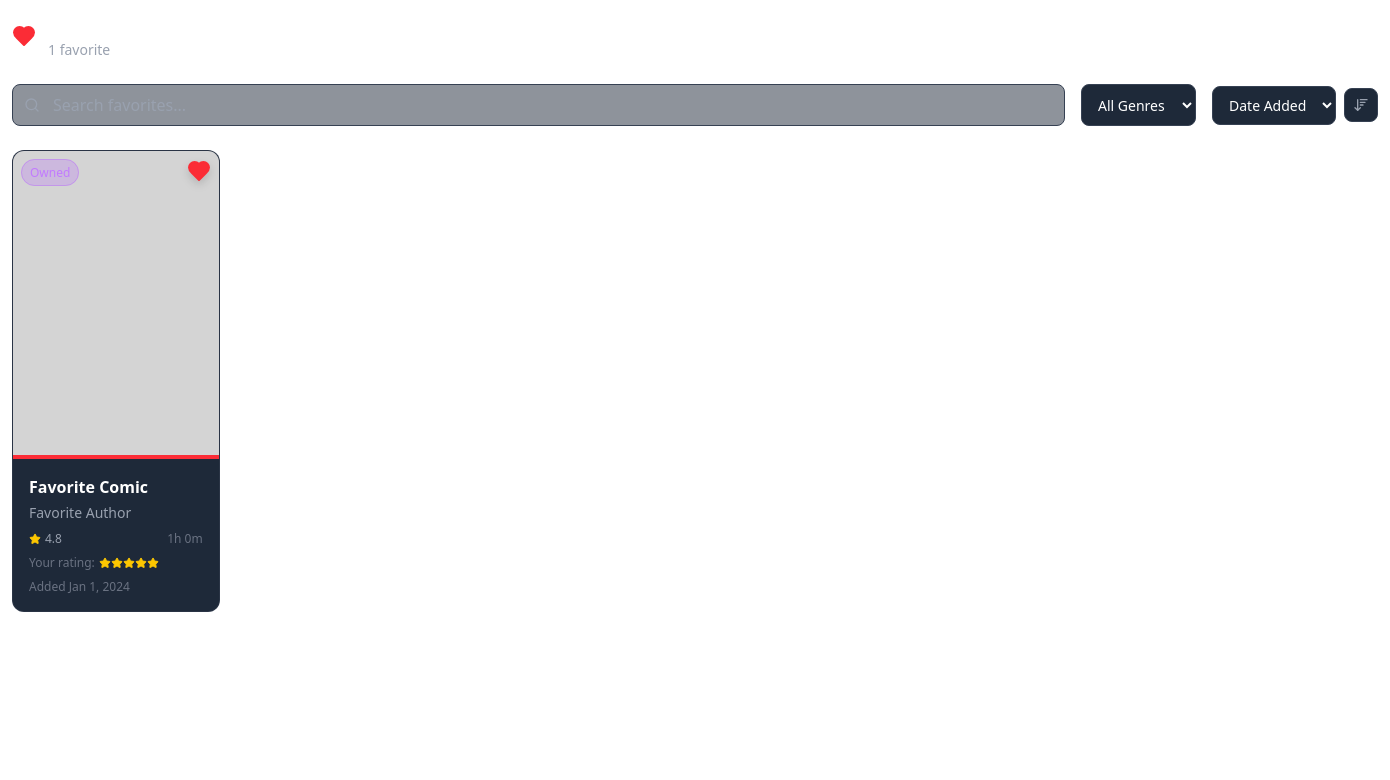
FavoritesList › shows empty state when search has no results
In the field with placeholder "Search favorites...": (538, 105) x1=12 y1=84 x2=1065 y2=126, type "NonExistent"
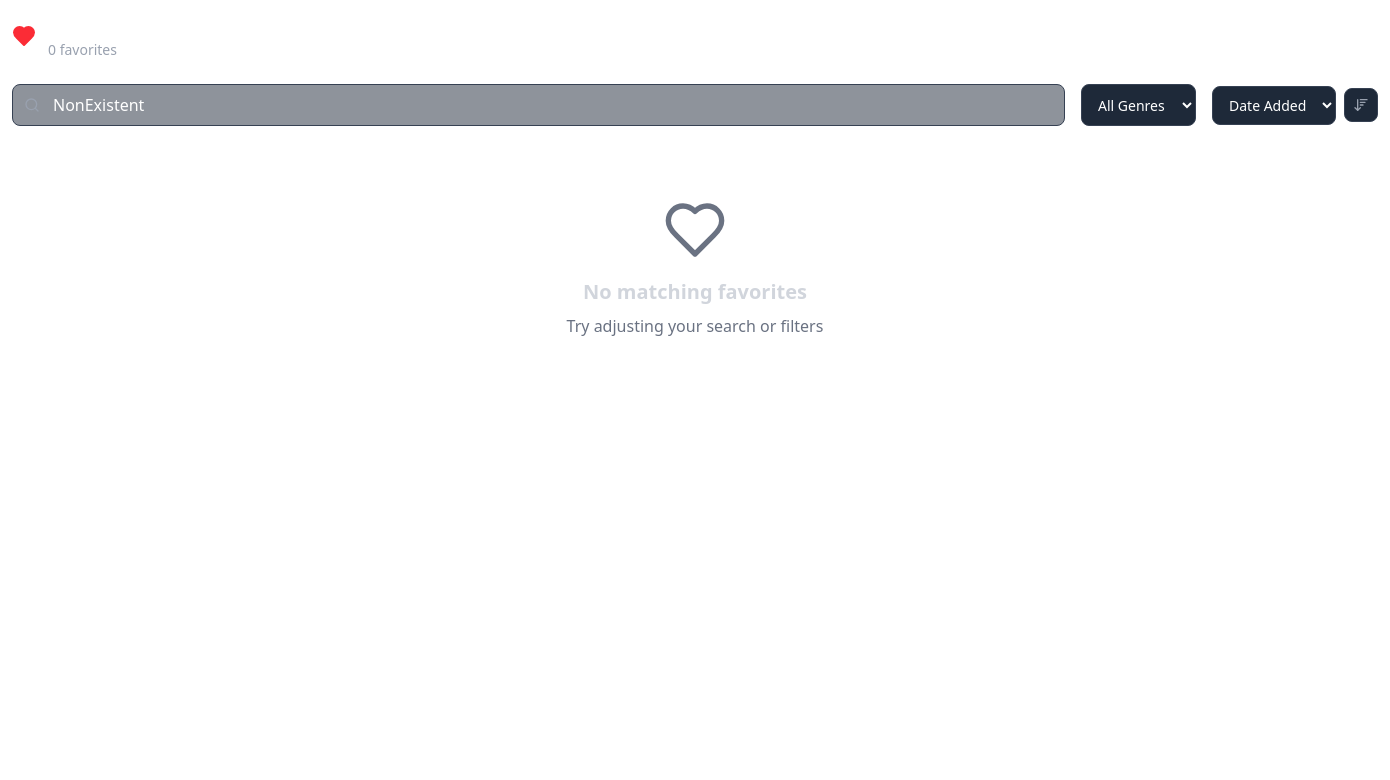
Expected: the heading "No matching favorites" is shown, x1=583 y1=278 x2=807 y2=305
Expected: the text "Try adjusting your search or filters" is shown, x1=567 y1=315 x2=823 y2=337
